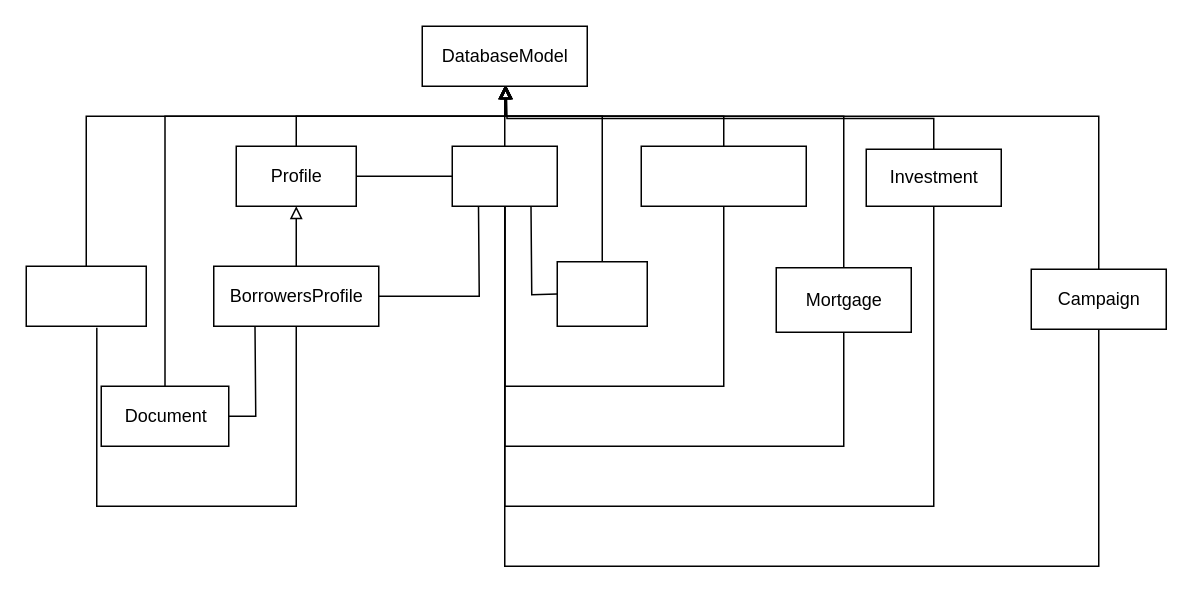
Image size: 1193x594. Some labels were removed from this diagram. Here are the shapes that lost their labels. From the top down, the centre of each, then its label:
At point 504,175: "User".
At point 723,175: "LoanRequest".
At point 85,295: "House".
At point 601,293: "Role".
